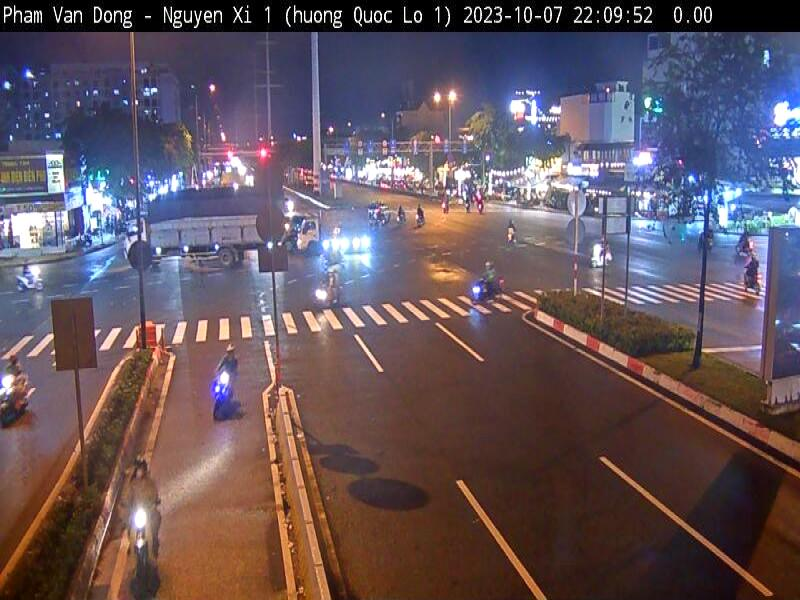truck: (124, 185, 304, 290)
